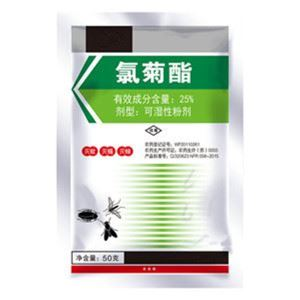Insecticide: (64, 17, 242, 286)
